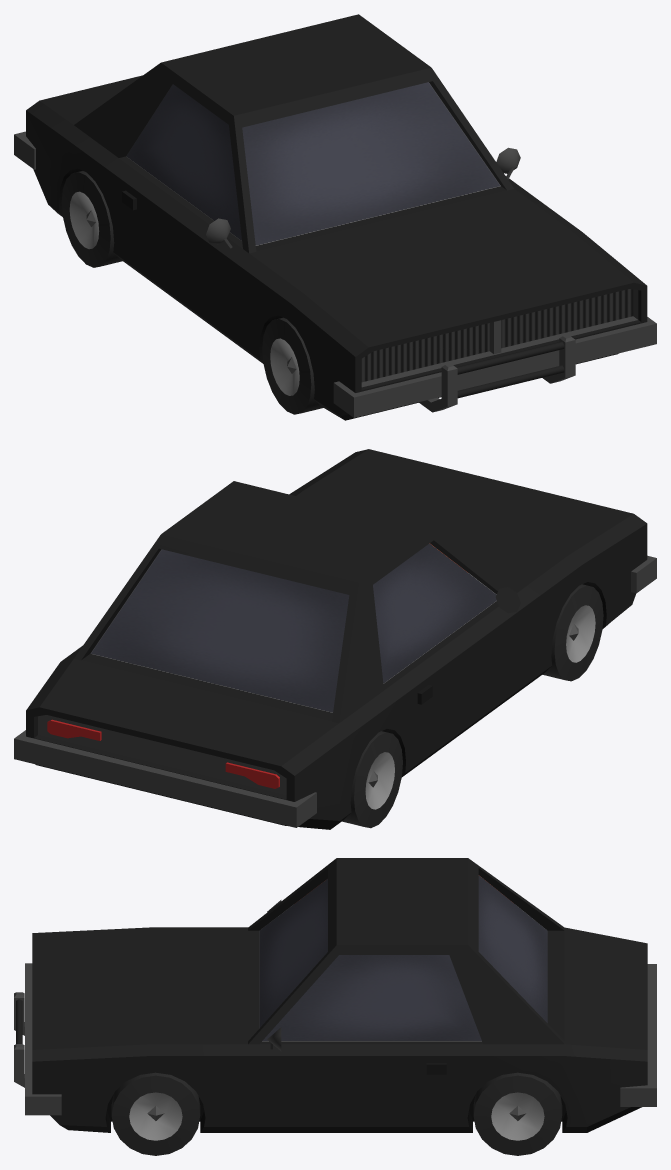
Rendered from Car_B2.fbx.
3 views of the same model, one above another, from view 1: azimuth 30°, elevation 25°; view 2: azimuth 150°, elevation 25°; view 3: azimuth 270°, elevation 25° (orthographic). The views are drawn at different scales.
Visible parts, largest first — view 1: Car2_Body, Car2_RF, Car2_RR; view 2: Car2_Body, Car2_RR, Car2_RF; view 3: Car2_Body, Car2_LR, Car2_LF.
Part boxes in pixels (box(x1,y1,x2,y2)): Car2_Body: box(14, 14, 656, 420); Car2_RF: box(262, 317, 323, 414); Car2_RR: box(61, 171, 122, 267); Car2_Body: box(14, 449, 656, 829); Car2_RR: box(342, 731, 402, 828); Car2_RF: box(542, 584, 603, 681); Car2_Body: box(14, 858, 656, 1132); Car2_LR: box(473, 1072, 562, 1155); Car2_LF: box(111, 1072, 200, 1155).
Bounding box in the file's own units: 206 × 132 × 404.
1 material, 1 textured.
